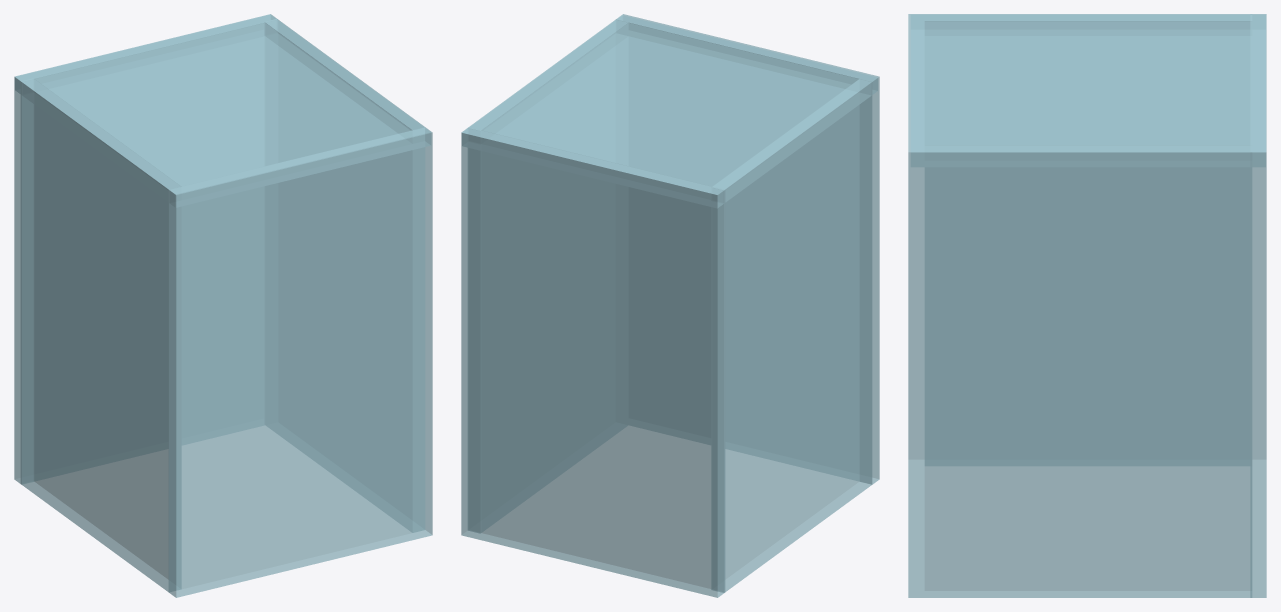
Rendered from GlassBox 1.fbx.
3 views of the same model, side by side, from view 1: azimuth 30°, elevation 25°; view 2: azimuth 150°, elevation 25°; view 3: azimuth 270°, elevation 25° (orthographic). The views are drawn at different scales.
Visible parts, largest first — view 1: Cube.001, Cube; view 2: Cube.001, Cube; view 3: Cube.001, Cube.
Boxes of the visible parts, x1,y1,x2,y2 form: Cube.001: (14, 14, 432, 597); Cube: (264, 19, 424, 532); Cube.001: (461, 14, 879, 597); Cube: (468, 19, 628, 533); Cube.001: (908, 14, 1266, 597); Cube: (924, 145, 1251, 597).
Size of the model in its own units: 250 by 375 by 273.
